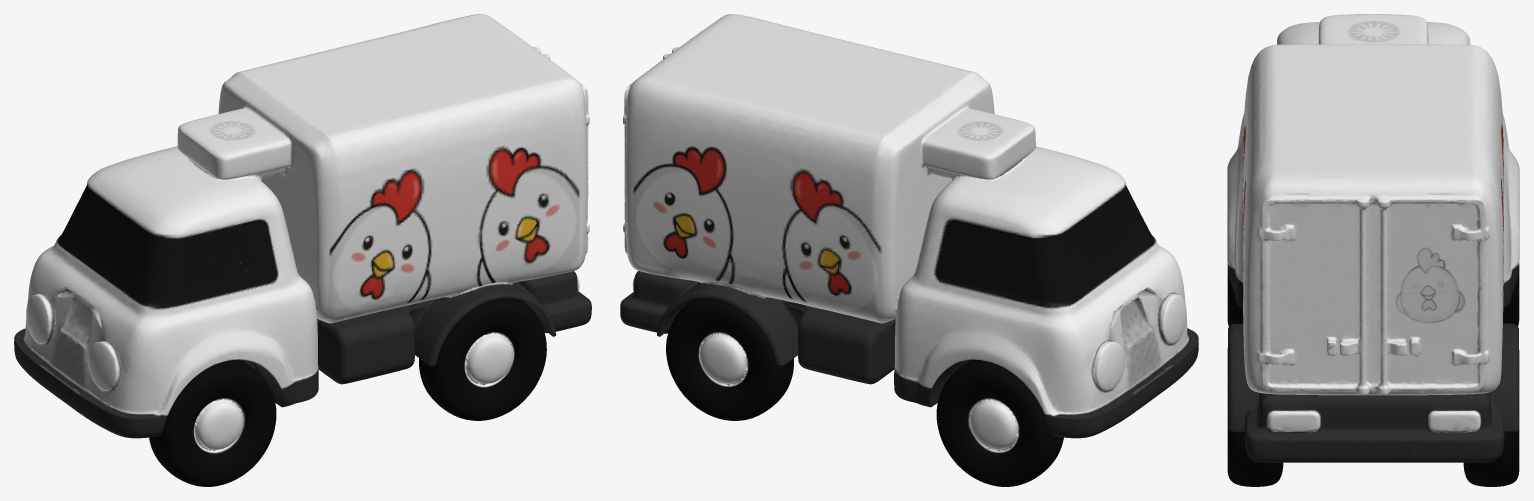
Rendered from cars_truck_fridge.glb.
3 renders of one model, left to right at view 1: azimuth 30°, elevation 25°; view 2: azimuth 150°, elevation 25°; view 3: azimuth 270°, elevation 25°, orthographic. The views are drawn at different scales.
Size of the model in its own units: 1.9 by 1.15 by 0.8642.
1 material, 1 textured.
